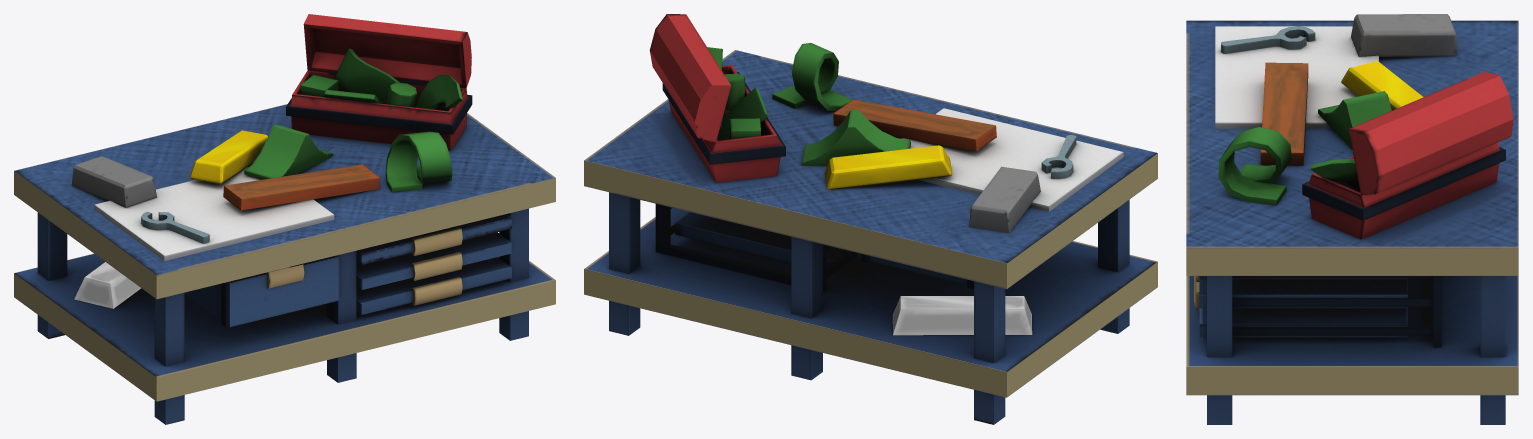
File: crafting_workbench.glb
3 views of the same model, side by side, from view 1: azimuth 30°, elevation 25°; view 2: azimuth 150°, elevation 25°; view 3: azimuth 270°, elevation 25° (orthographic). The views are drawn at different scales.
Parts seen in each view (by area): view 1: workbench; view 2: workbench; view 3: workbench.
Part boxes in pixels (x1,y1,x2,y2): workbench: [14, 14, 555, 424]; workbench: [584, 14, 1157, 424]; workbench: [1186, 14, 1518, 424].
Size of the model in its own units: 2.58 by 1.56 by 1.6.
1 material, 1 textured.
